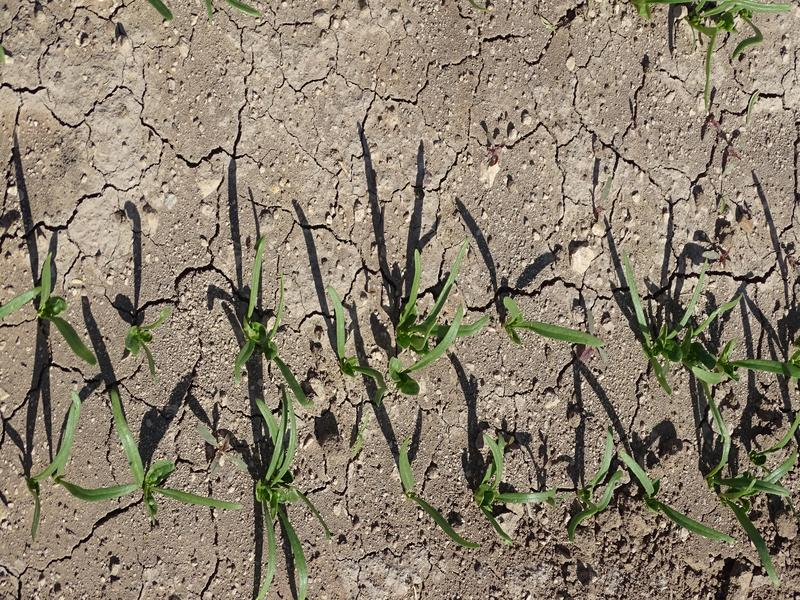Espinaca: (616, 239, 797, 575), (323, 253, 604, 387), (224, 273, 321, 593), (31, 391, 239, 518), (478, 432, 611, 532), (4, 256, 103, 367), (627, 1, 791, 63), (399, 442, 485, 551), (122, 311, 174, 375)
